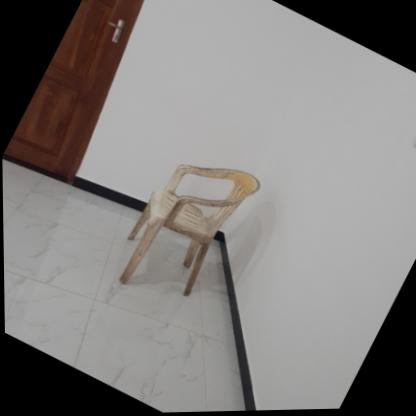Ceramic floor: (2, 158, 253, 413)
Chair: (103, 136, 265, 324)
